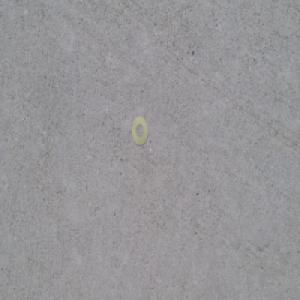Washer: (129, 114, 147, 146)
